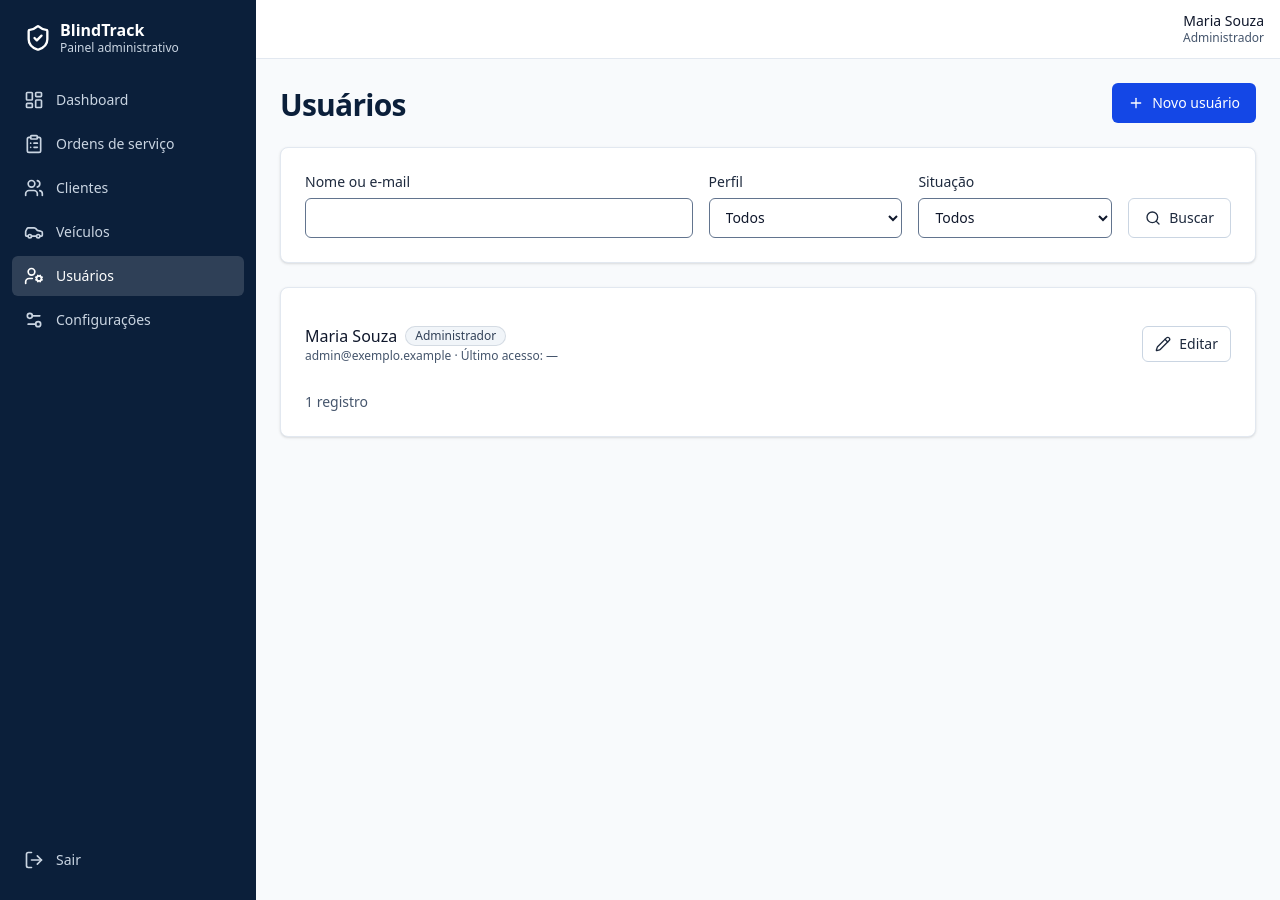
Scenario: Usuários e configurações › ADMIN editando a si mesmo: perfil e situação não são enviados
Later steps or results of the test are not shown.
Click the button with aria-label "Editar Maria Souza". click: (1187, 344)
box: [1142, 326, 1231, 362]
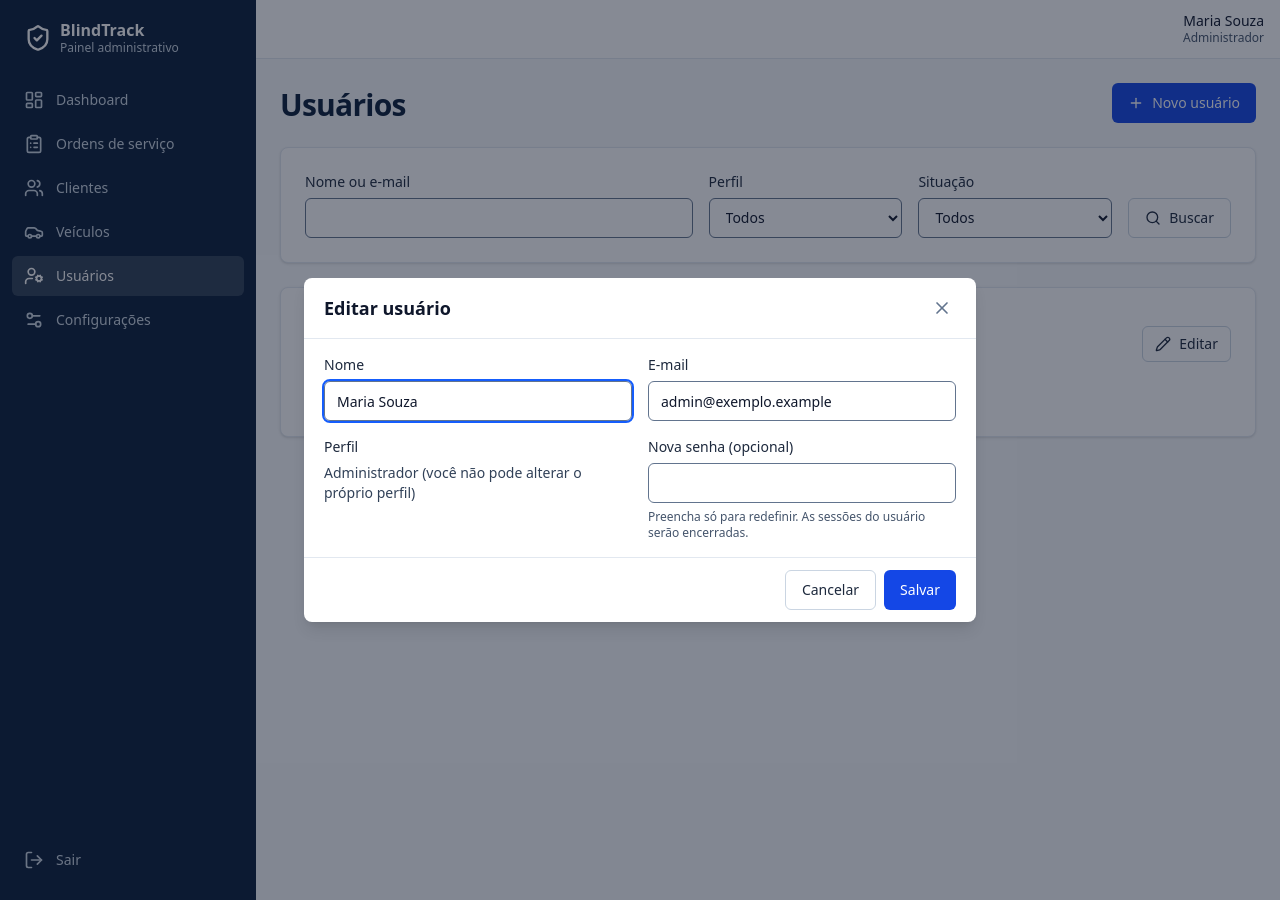
Now the dialog "Editar usuário" shows "não pode alterar o próprio perfil", box [324, 463, 582, 502]
